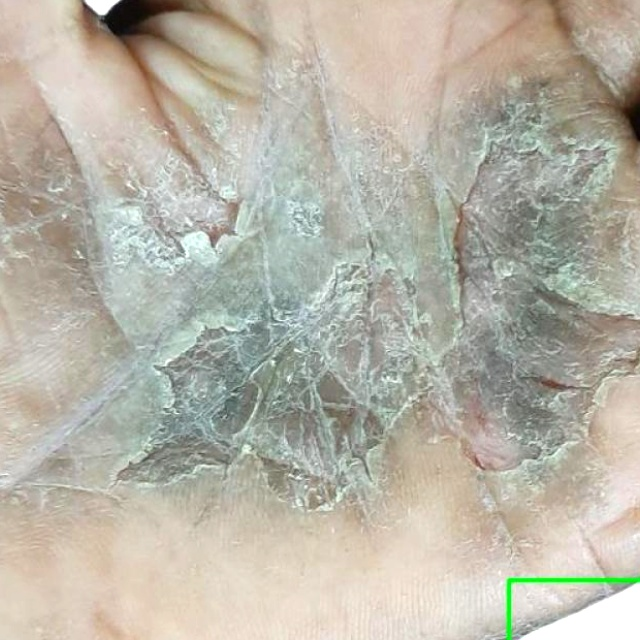Contact Dermatitis: (508, 578, 639, 639)
